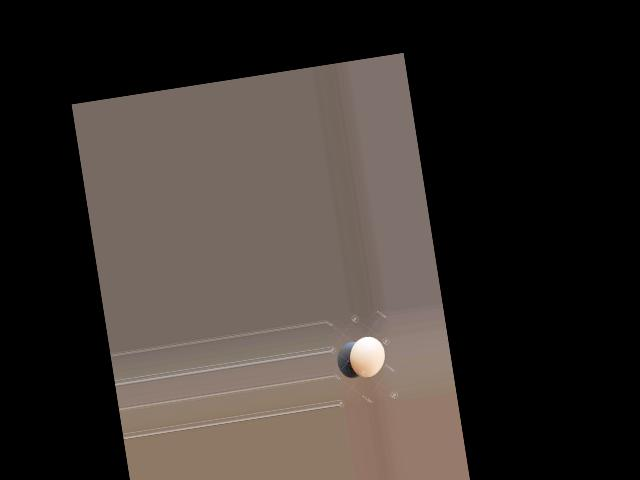egg: (346, 334, 387, 379)
